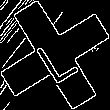L_NW: (29, 26, 81, 84)
